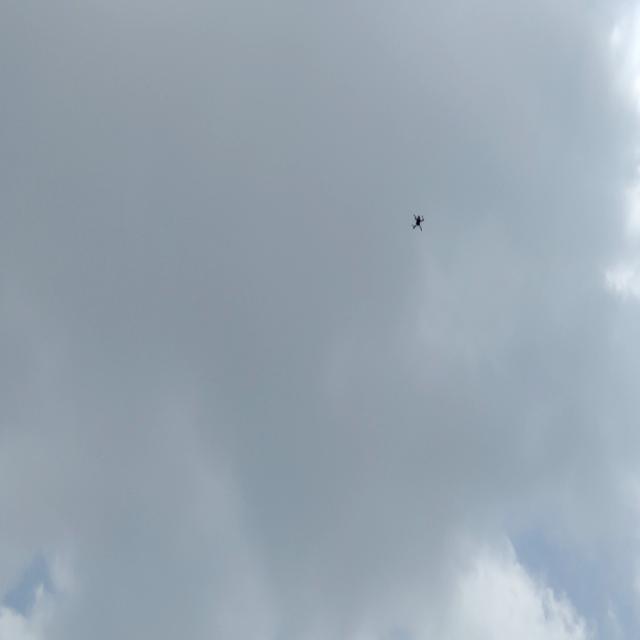drone: (405, 205, 427, 232)
